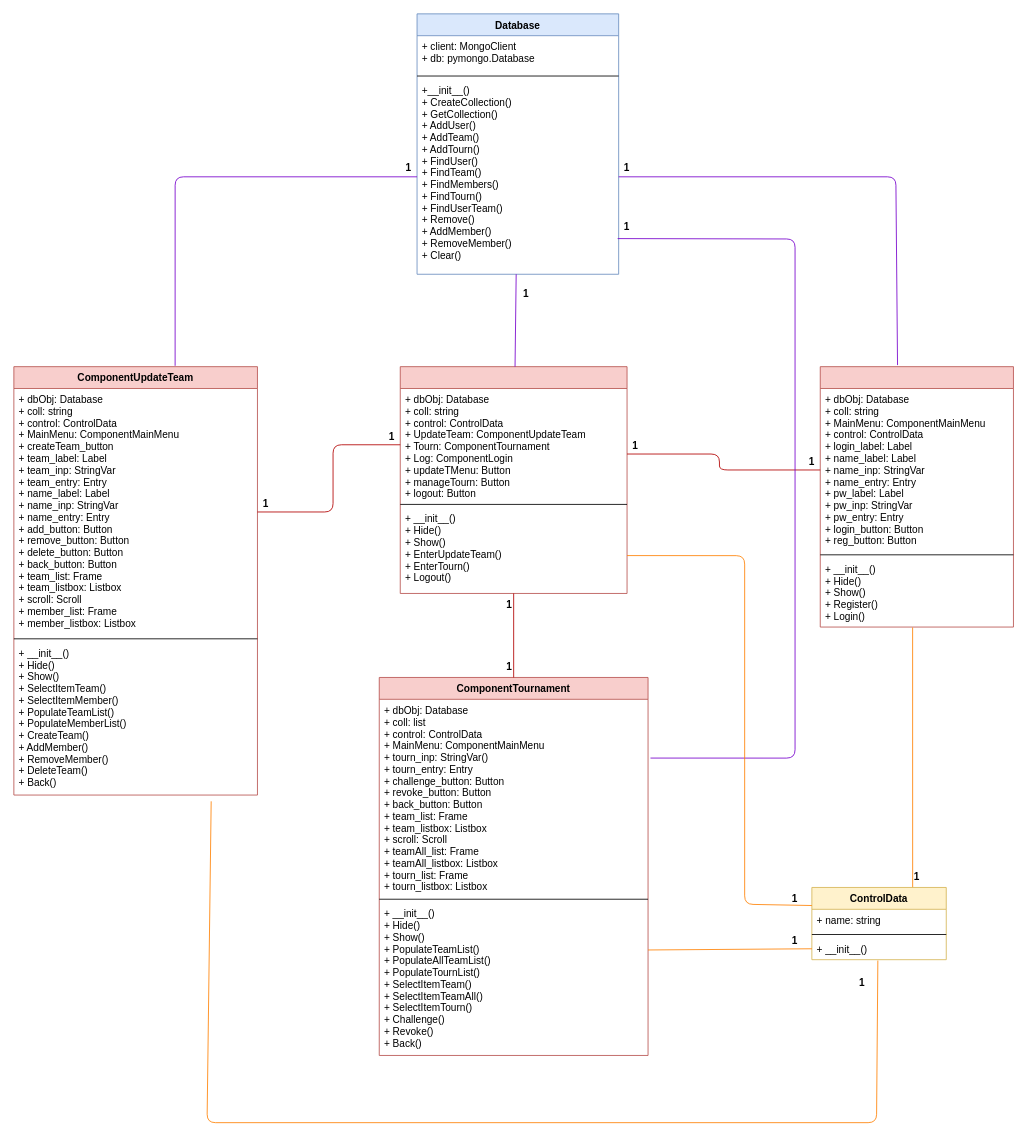
Some shapes in this 1027 by 1137 pixel diagram are drawn without their labels. Each missing label, with the box of its shape:
ComponentLogin: (819, 366, 1013, 627)
ComponentMainMenu: (399, 366, 627, 593)
